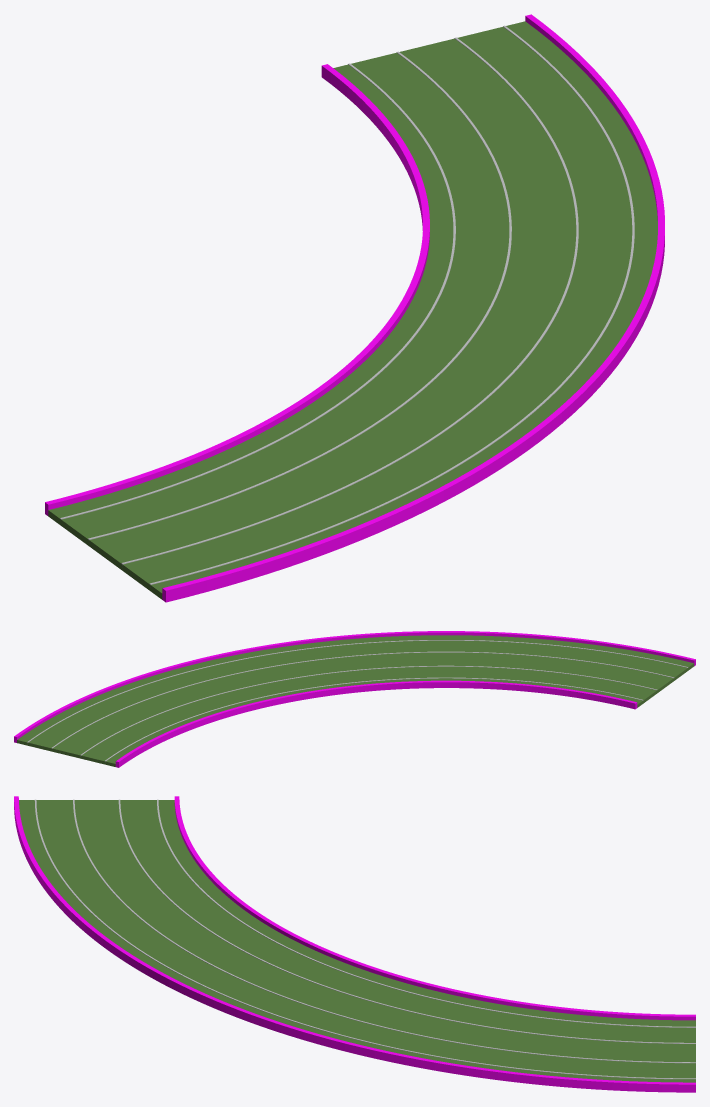
Rendered from PT_TramTrack_Grass_Curve90_R25.fbx.
3 views of the same model, one above another, from view 1: azimuth 30°, elevation 25°; view 2: azimuth 150°, elevation 25°; view 3: azimuth 270°, elevation 25° (orthographic). The views are drawn at different scales.
Visible parts, largest first — view 1: Bed_Grass, COL_Bed, Rails; view 2: Bed_Grass, COL_Bed, Rails; view 3: Bed_Grass, COL_Bed, Rails.
Boxes of the visible parts, x1,y1,x2,y2 form: Bed_Grass: [48, 21, 657, 599]; COL_Bed: [45, 14, 664, 602]; Rails: [60, 25, 634, 584]; Bed_Grass: [17, 635, 694, 766]; COL_Bed: [14, 631, 695, 767]; Rails: [27, 640, 688, 761]; Bed_Grass: [19, 800, 695, 1082]; COL_Bed: [14, 796, 695, 1092]; Rails: [34, 799, 695, 1079].
Size of the model in its own units: 28.45 by 0.37 by 28.45.
